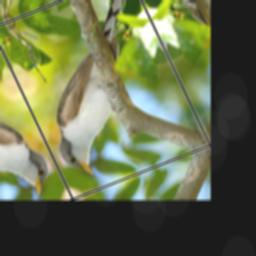Cuckoo: (0, 0, 204, 189)
